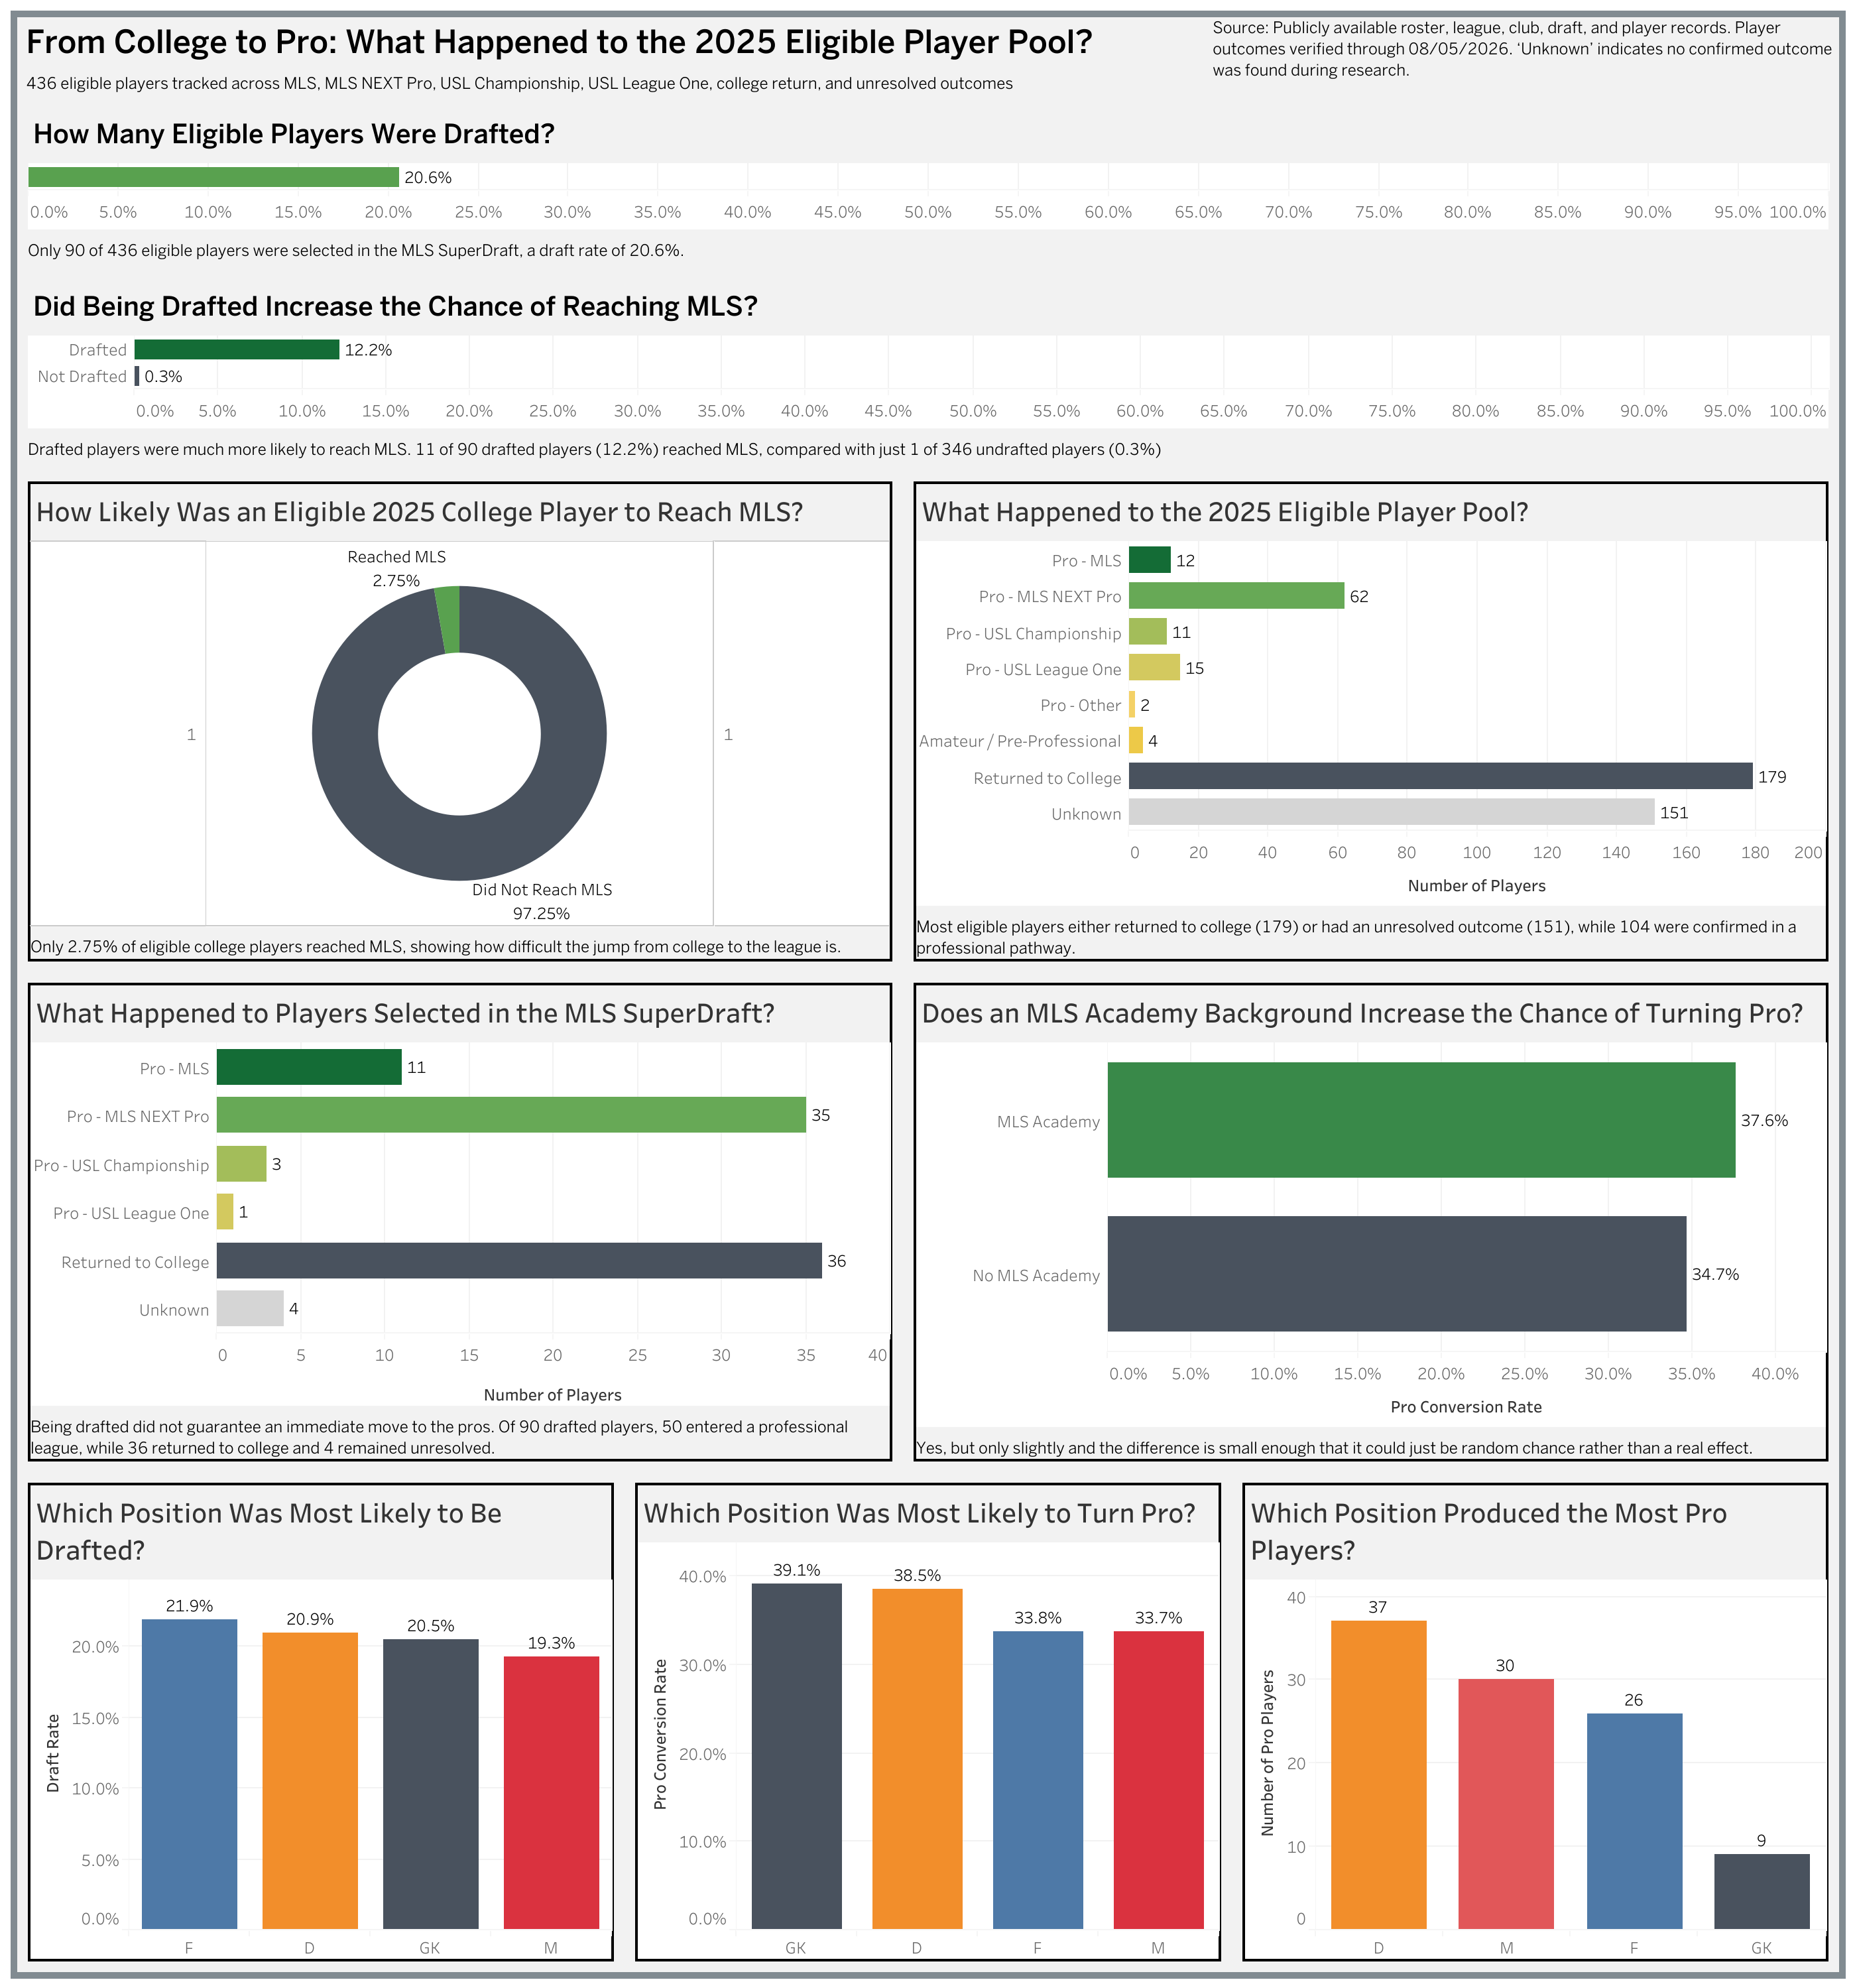

The page's visual inventory and layout, read from the dashboard file:
{"tool":"tableau","page":{"name":"From College to Pro: What Happened to the 2025 Eligible Player Pool?","canvas":[1400,1500],"ordinal":0},"visuals":[{"type":"text","box":[912,9,474,56]},{"type":"title","box":[13,13,1374,37]},{"type":"text","box":[13,50,1374,24]},{"type":"worksheet","title":"How Many Eligible Players Were Drafted?","mark":"Bar","cols":["Calculation_4828843993758760960"],"box":[13,74,1374,129]},{"type":"worksheet","title":"Did Being Drafted Increase the Chance of Reaching MLS?","mark":"Bar","rows":["Drafted?"],"cols":["Calculation_4828843993765244929"],"box":[13,203,1374,149]},{"type":"worksheet","title":"How Likely Was an Eligible 2025 College Player to Reach MLS?","mark":"Pie","rows":["Calculation_4698098867029090304","Calculation_4698098867029090304"],"box":[13,352,668.1,379]},{"type":"worksheet","title":"What Happened to the 2025 Eligible Player Pool?","mark":"Automatic","rows":["Outcome Category"],"cols":["Player"],"box":[681.1,352,705.9,379]},{"type":"worksheet","title":"What Happened to Players Selected in the MLS SuperDraft?","mark":"Automatic","rows":["Outcome Category"],"cols":["Player"],"box":[13,731,668.4,378]},{"type":"worksheet","title":"Does an MLS Academy Background Increase the Chance of Turning Pro?","mark":"Automatic","rows":["Calculation_4643351984042659844"],"cols":["Calculation_4686839867948396544"],"box":[681.4,731,705.6,378]},{"type":"worksheet","title":"Which Position Was Most Likely to Be Drafted?","mark":"Bar","rows":["Calculation_4686839867948990465"],"cols":["Calculation_4643351984036331522"],"box":[13,1109,458,378]},{"type":"worksheet","title":"Which Position Was Most Likely to Turn Pro?","mark":"Bar","rows":["Calculation_4686839867948396544"],"cols":["Calculation_4643351984036331522"],"box":[471,1109,458,378]},{"type":"worksheet","title":"Which Position Produced the Most Pro Players?","mark":"Bar","rows":["Player"],"cols":["Position"],"box":[929,1109,458,378]}]}

Visuals, with their boxes in screenshot pixels (x1, y1, x2, y2), scaled from the page's 1400x1500 canvas onto the 1855x1988 screenshot:
text: bbox(1209, 12, 1836, 86)
title: bbox(17, 17, 1838, 66)
text: bbox(17, 66, 1838, 98)
"How Many Eligible Players Were Drafted?" worksheet (Bar marks): bbox(17, 98, 1838, 269)
"Did Being Drafted Increase the Chance of Reaching MLS?" worksheet (Bar marks): bbox(17, 269, 1838, 467)
"How Likely Was an Eligible 2025 College Player to Reach MLS?" worksheet (Pie marks): bbox(17, 467, 902, 969)
"What Happened to the 2025 Eligible Player Pool?" worksheet: bbox(902, 467, 1838, 969)
"What Happened to Players Selected in the MLS SuperDraft?" worksheet: bbox(17, 969, 903, 1470)
"Does an MLS Academy Background Increase the Chance of Turning Pro?" worksheet: bbox(903, 969, 1838, 1470)
"Which Position Was Most Likely to Be Drafted?" worksheet (Bar marks): bbox(17, 1470, 624, 1971)
"Which Position Was Most Likely to Turn Pro?" worksheet (Bar marks): bbox(624, 1470, 1231, 1971)
"Which Position Produced the Most Pro Players?" worksheet (Bar marks): bbox(1231, 1470, 1838, 1971)
